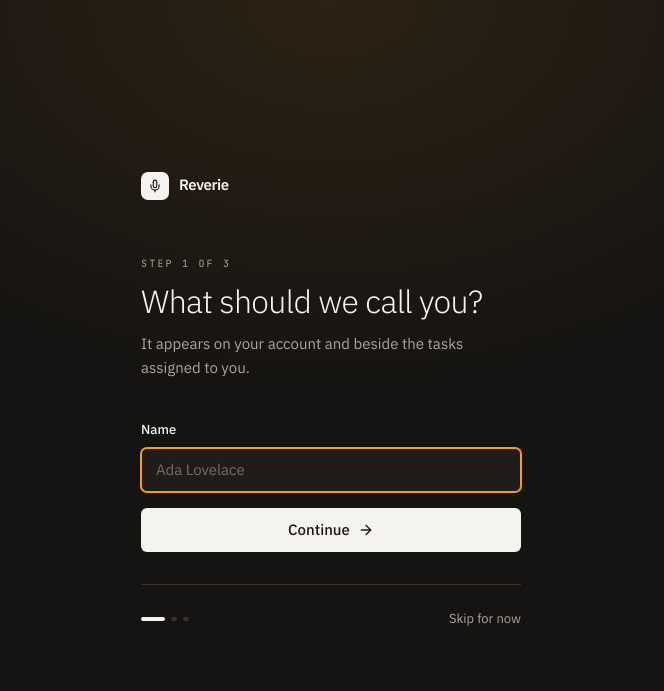
Scenario: getting out of it › offers a first recording, an import, or straight in
The image size is (664, 691).
What coordinates should you click on to do the following:
click the button "Continue"
I would click on:
 (331, 530)
Its box is [141,508,521,552].
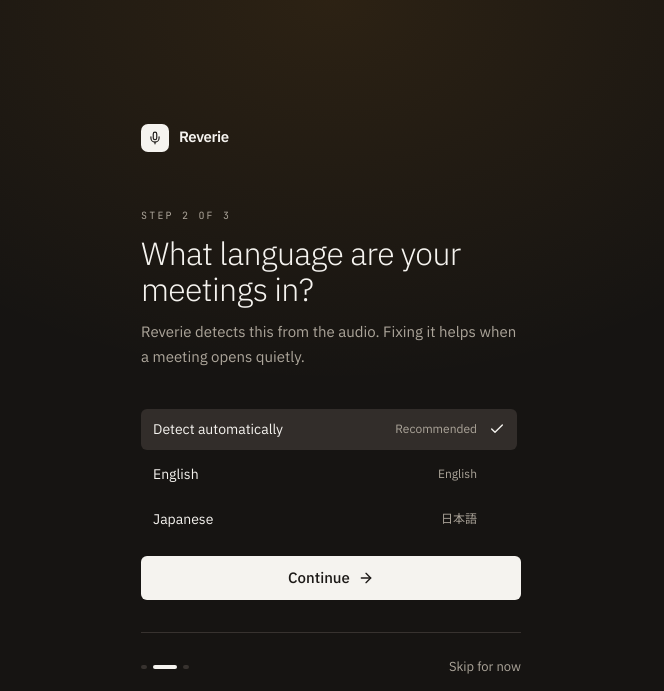
What coordinates should you click on to do the following:
click the button "Continue"
I would click on:
 (331, 578)
Its box is [141,556,521,600].
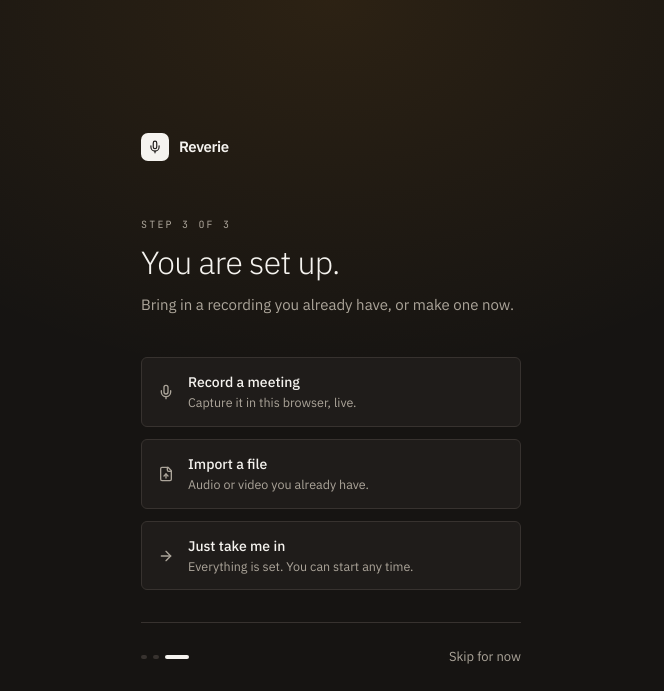
Result: the button "Record a meeting Capture it in this browser, live." is shown at [141,357,521,427]
Result: the button "Import a file Audio or video you already have." is shown at [141,439,521,509]
Result: the button "Just take me in Everything is set. You can start any time." is shown at [141,521,521,590]
